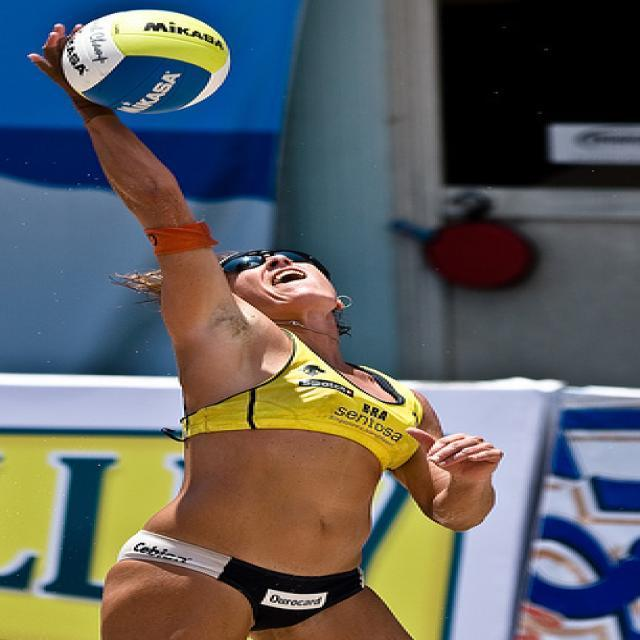volleyball: (62, 9, 230, 114)
